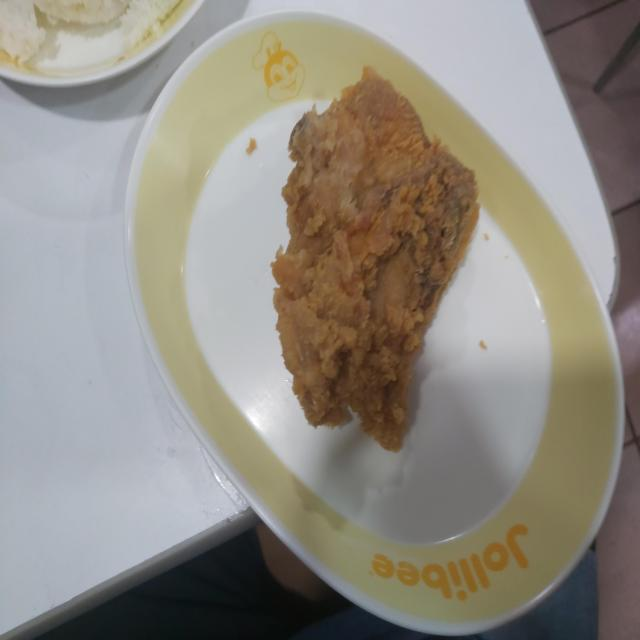Chicken -Fried Chicken-: (261, 72, 488, 473)
